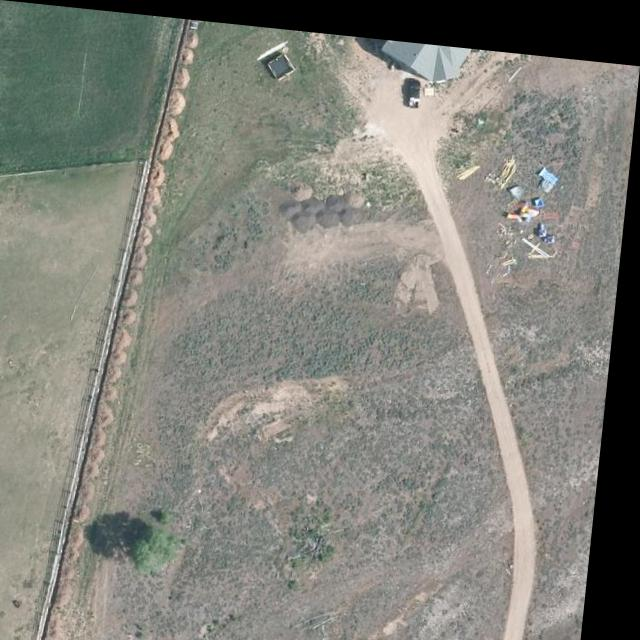vehicle: (409, 71, 424, 99)
